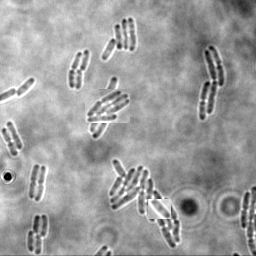Dividing: (67, 52, 81, 89), (1, 128, 18, 157), (34, 166, 47, 202), (28, 164, 39, 200), (239, 192, 249, 229)
Microcolony: (109, 158, 180, 249), (199, 45, 224, 121), (85, 89, 130, 123), (101, 18, 136, 61), (27, 214, 48, 255)
Rod: (5, 121, 23, 150), (148, 199, 171, 219), (16, 78, 34, 99), (79, 50, 89, 72), (73, 69, 82, 90)
